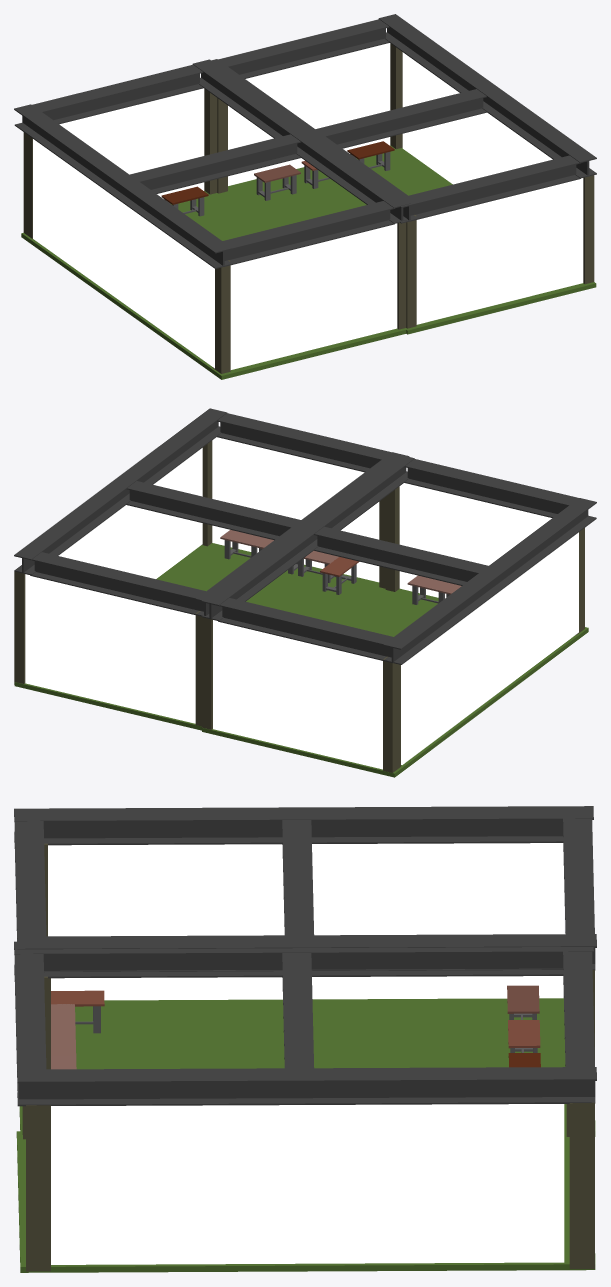
The model's file is salon_De_Lab.gltf.
3 renders of one model, top to bottom at view 1: azimuth 30°, elevation 25°; view 2: azimuth 150°, elevation 25°; view 3: azimuth 270°, elevation 25°, orthographic. The views are drawn at different scales.
Visible parts, largest first — view 1: Vigas_Amarre, Vigas_Amarre.001, Cubo, Cubo.012, Cubo.003, Cubo.013, Cubo.014, Cubo.015, Cubo.002, Cubo.001, Cubo.006, Cubo.008 (+9 smaller); view 2: Vigas_Amarre, Vigas_Amarre.001, Cubo.013, Cubo.002, Cubo, Cubo.012, Cubo.003, Cubo.014, Cubo.015, Cubo.001, Cubo.005, Cubo.004 (+9 smaller); view 3: Cubo.015, Cubo, Vigas_Amarre.001, Vigas_Amarre, Cubo.001, Cubo.014, Cubo.011, Cubo.008, mesa2, Mesa.Lab1, Mesa.Lab2, mesa4 (+1 smaller).
Part boxes in pixels (x1=…): Vigas_Amarre: x1=14, y1=59, x2=410, y2=268; Vigas_Amarre.001: x1=211, y1=14, x2=596, y2=223; Cubo: x1=33, y1=139, x2=214, y2=368; Cubo.012: x1=416, y1=178, x2=583, y2=324; Cubo.003: x1=230, y1=223, x2=397, y2=369; Cubo.013: x1=228, y1=43, x2=390, y2=185; Cubo.014: x1=215, y1=145, x2=596, y2=334; Cubo.015: x1=402, y1=52, x2=552, y2=184; Cubo.002: x1=59, y1=88, x2=204, y2=198; Cubo.001: x1=21, y1=191, x2=406, y2=379; Cubo.006: x1=212, y1=260, x2=230, y2=373; Cubo.008: x1=583, y1=175, x2=594, y2=284; Vigas_Amarre: x1=201, y1=454, x2=596, y2=664; Vigas_Amarre.001: x1=14, y1=408, x2=409, y2=616; Cubo.013: x1=25, y1=574, x2=195, y2=723; Cubo.002: x1=213, y1=620, x2=382, y2=769; Cubo: x1=401, y1=532, x2=578, y2=764; Cubo.012: x1=212, y1=437, x2=379, y2=582; Cubo.003: x1=399, y1=483, x2=551, y2=598; Cubo.014: x1=14, y1=543, x2=386, y2=730; Cubo.015: x1=58, y1=448, x2=202, y2=578; Cubo.001: x1=202, y1=588, x2=588, y2=777; Cubo.005: x1=383, y1=656, x2=400, y2=772; Cubo.004: x1=201, y1=616, x2=212, y2=730; Cubo.015: x1=51, y1=1104, x2=564, y2=1264; Cubo: x1=48, y1=843, x2=564, y2=1000; Vigas_Amarre.001: x1=14, y1=941, x2=596, y2=1106; Vigas_Amarre: x1=14, y1=806, x2=596, y2=972; Cubo.001: x1=19, y1=998, x2=595, y2=1136; Cubo.014: x1=16, y1=1131, x2=595, y2=1272; Cubo.011: x1=569, y1=1102, x2=594, y2=1268; Cubo.008: x1=26, y1=1105, x2=50, y2=1271; mesa2: x1=51, y1=990, x2=104, y2=1033; Mesa.Lab1: x1=507, y1=985, x2=539, y2=1019; Mesa.Lab2: x1=508, y1=1020, x2=540, y2=1052; mesa4: x1=51, y1=1030, x2=76, y2=1055.
Bounding box in the file's own units: 20.37 × 6.55 × 18.15.
